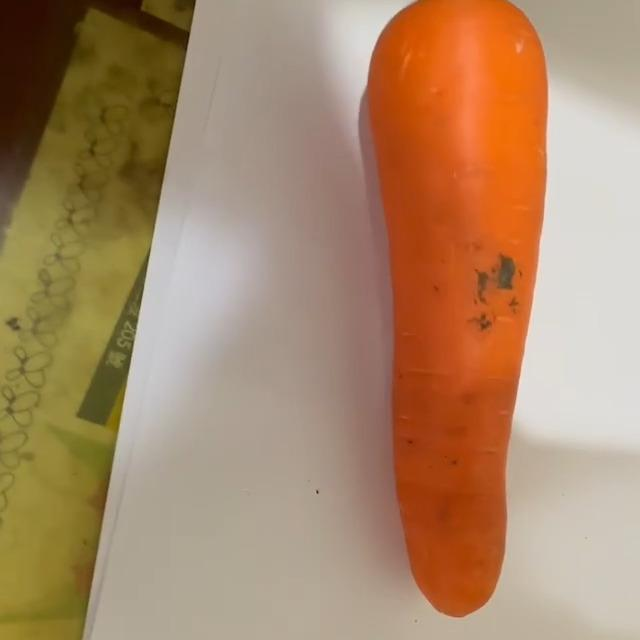carrot: (358, 1, 552, 620)
